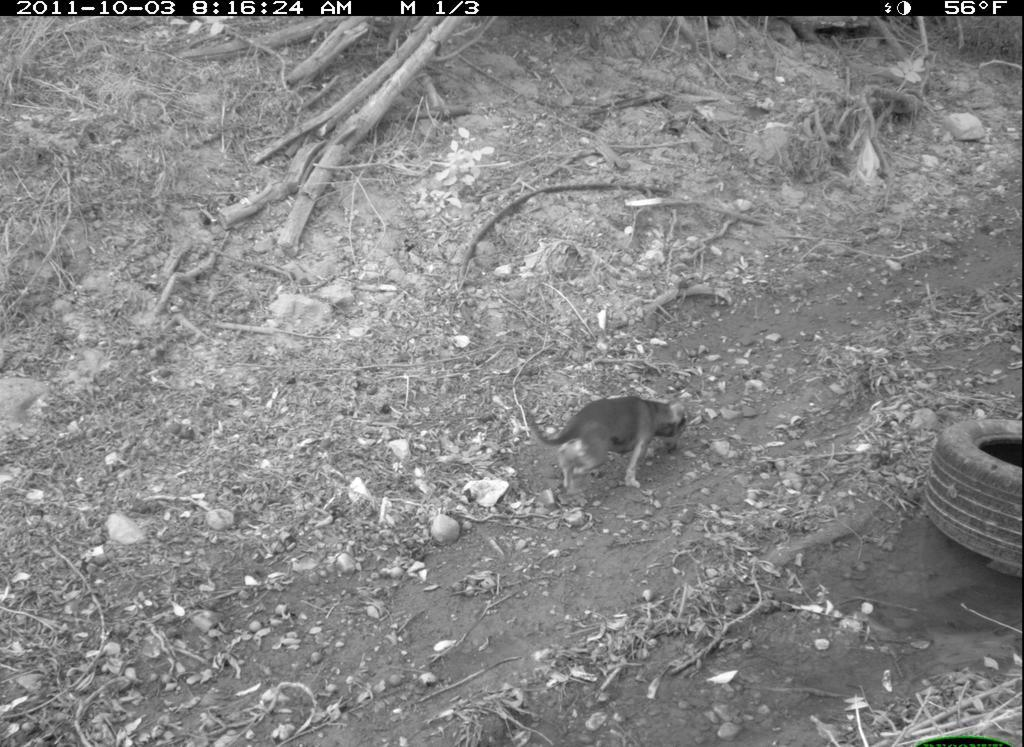dog: (505, 365, 710, 505)
